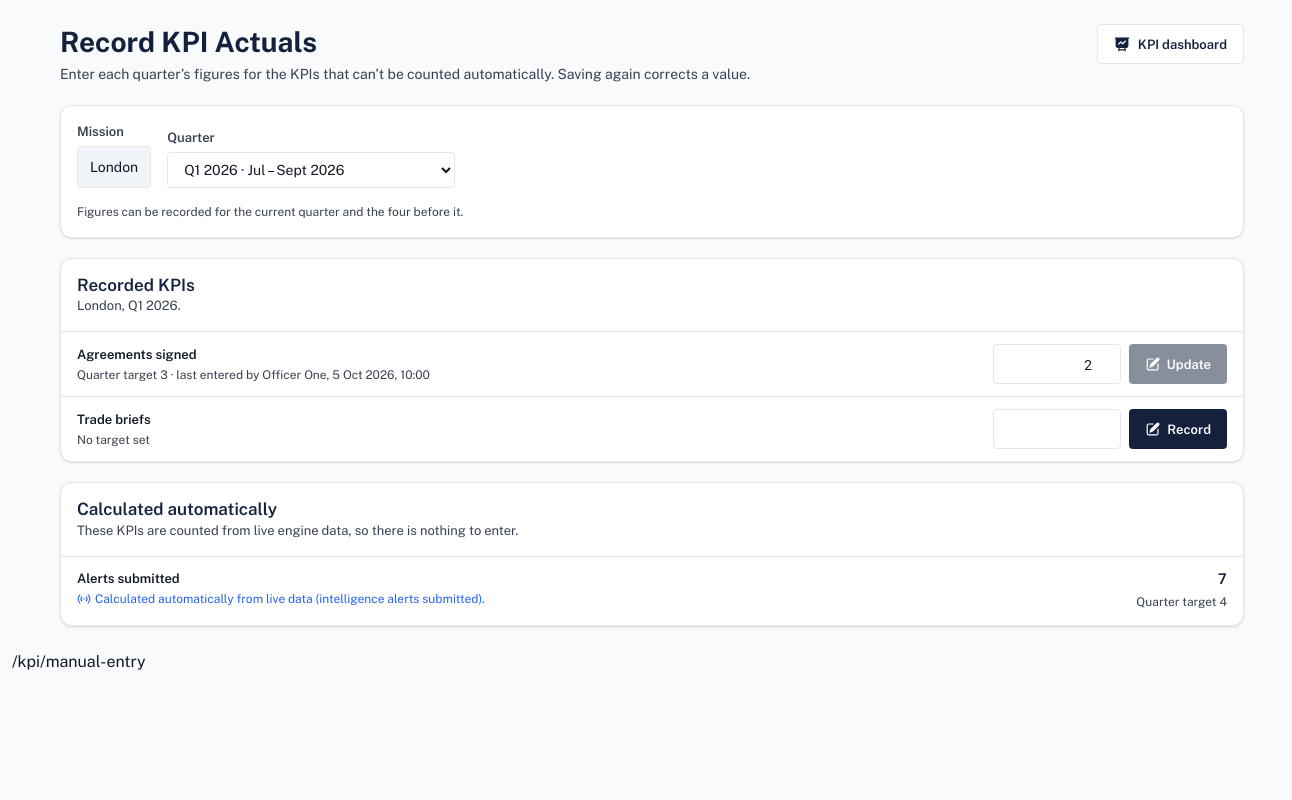
Test: ManualKpiEntryPage › refuses an empty or negative value before sending it
Click the button "Record" at point(1178, 429), box [1129,409,1227,449]
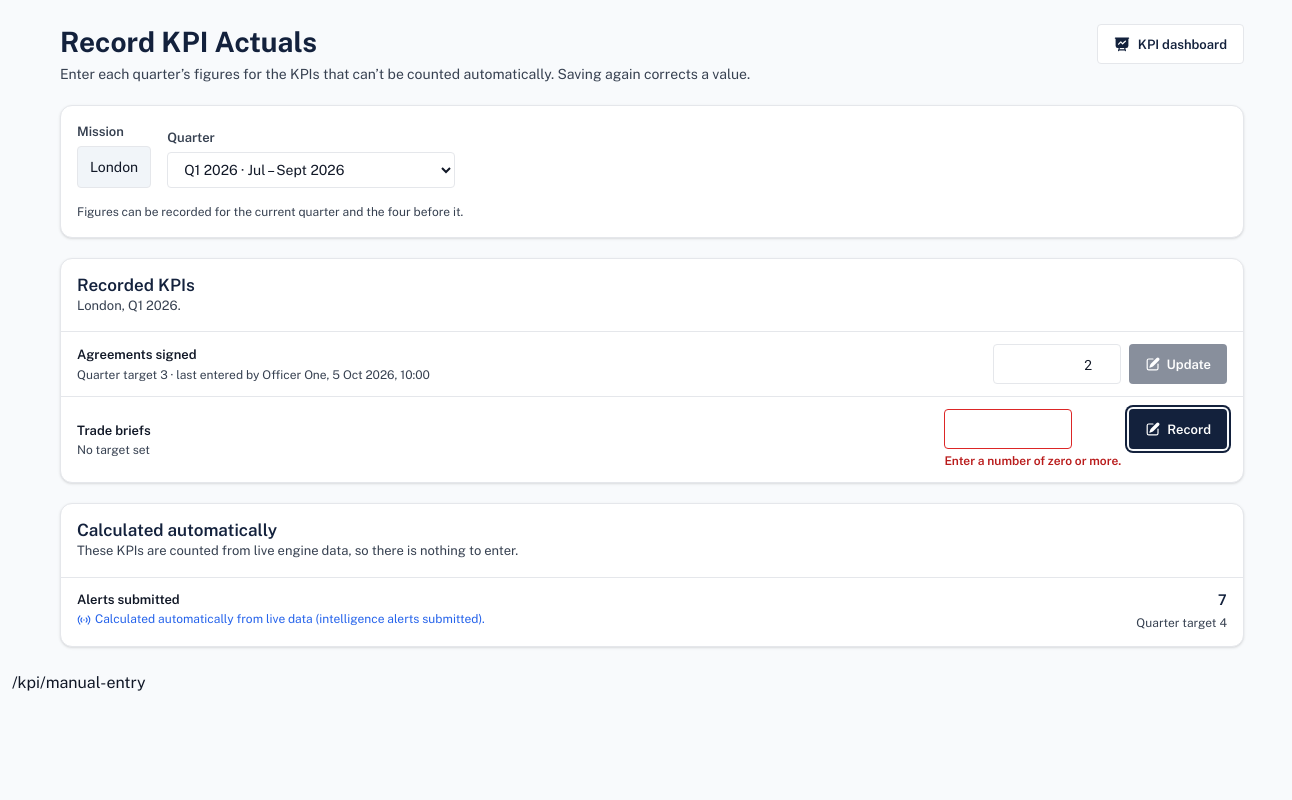
Check: the text "Enter a number of zero or more." is shown, box [944,453,1121,470]
